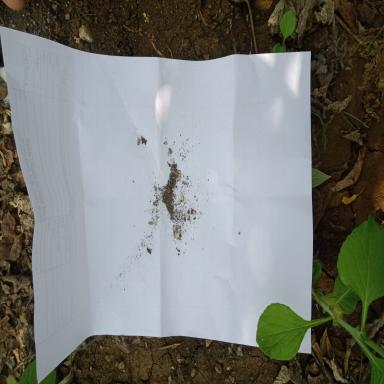pbw: (172, 167, 180, 178), (136, 136, 142, 146), (181, 179, 189, 186), (179, 191, 184, 202), (148, 221, 156, 226)
